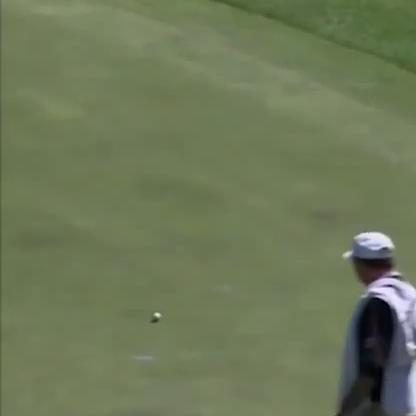golfball: (152, 309, 162, 320)
